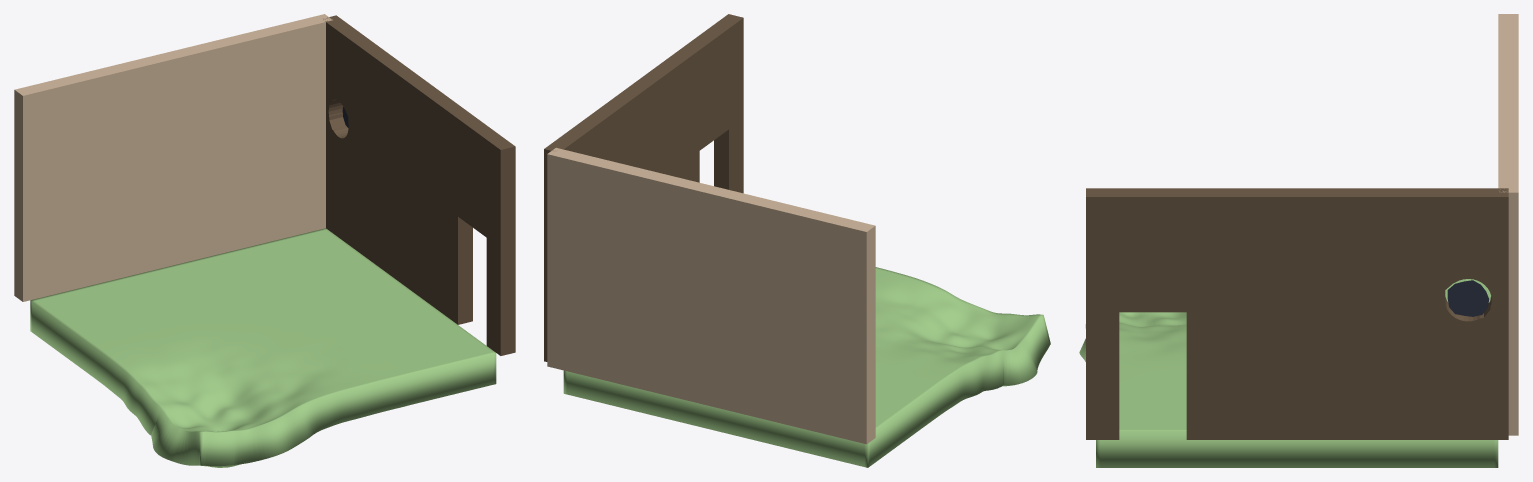
The model's file is structure.fbx.
3 renders of one model, left to right at view 1: azimuth 30°, elevation 25°; view 2: azimuth 150°, elevation 25°; view 3: azimuth 270°, elevation 25°, orthographic. The views are drawn at different scales.
Visible parts, largest first — view 1: Ground, Wall_Back, Wall_Right; view 2: Wall_Back, Ground, Wall_Right; view 3: Wall_Right, Ground, Wall_Back, SpringEye.
Part boxes in pixels (x1=…): Ground: x1=30, y1=228, x2=496, y2=467; Wall_Back: x1=14, y1=14, x2=332, y2=301; Wall_Right: x1=323, y1=15, x2=515, y2=355; Wall_Back: x1=547, y1=147, x2=875, y2=444; Ground: x1=563, y1=267, x2=1050, y2=467; Wall_Right: x1=544, y1=14, x2=743, y2=361; Wall_Right: x1=1086, y1=188, x2=1508, y2=439; Ground: x1=1079, y1=279, x2=1498, y2=467; Wall_Back: x1=1498, y1=14, x2=1518, y2=435; SpringEye: x1=1447, y1=280, x2=1489, y2=316.
Bounding box in the file's own units: 662 × 514 × 655.
